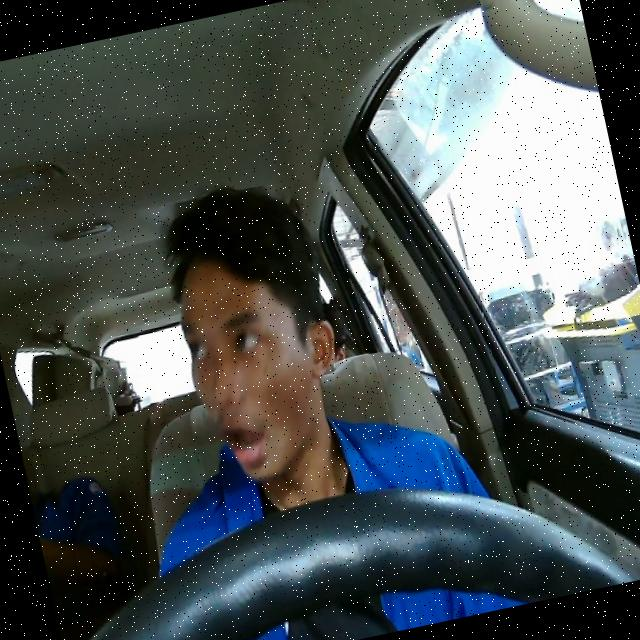yarning: (165, 234, 359, 491)
